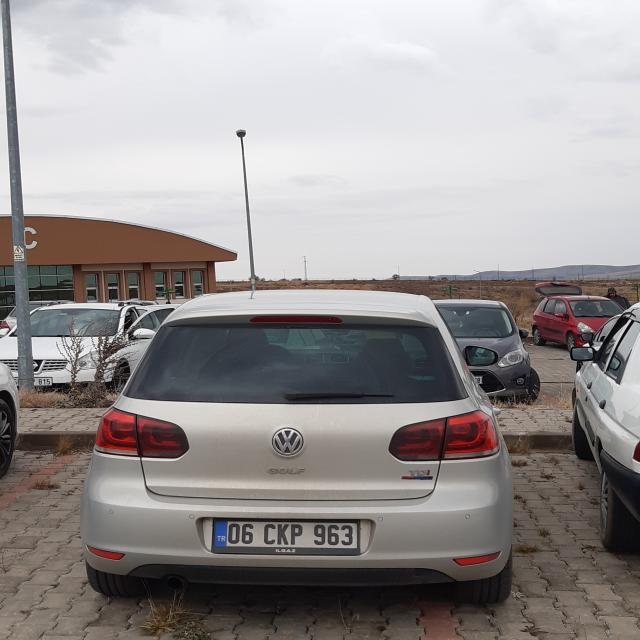plate: (214, 519, 358, 551)
